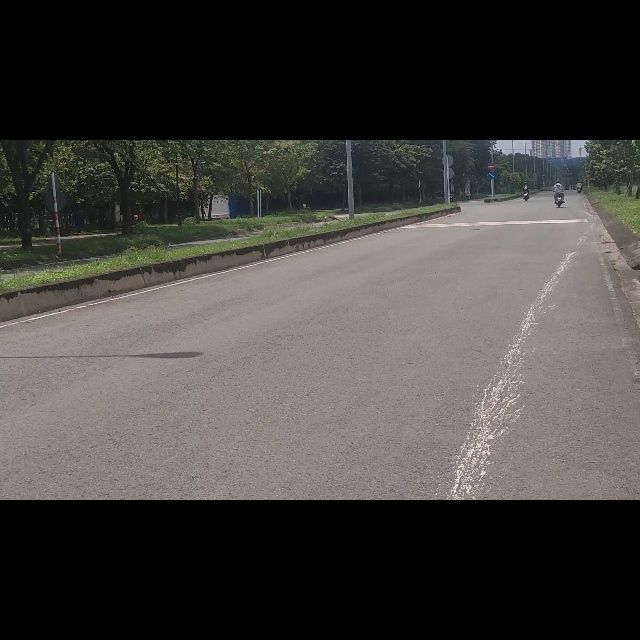bien_cam: (488, 40, 496, 55), (488, 56, 495, 71)
